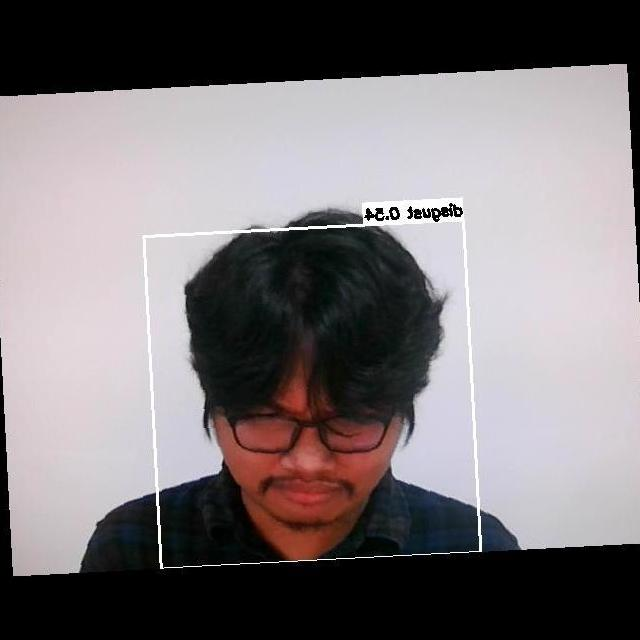Disgust: (222, 375, 394, 521)
